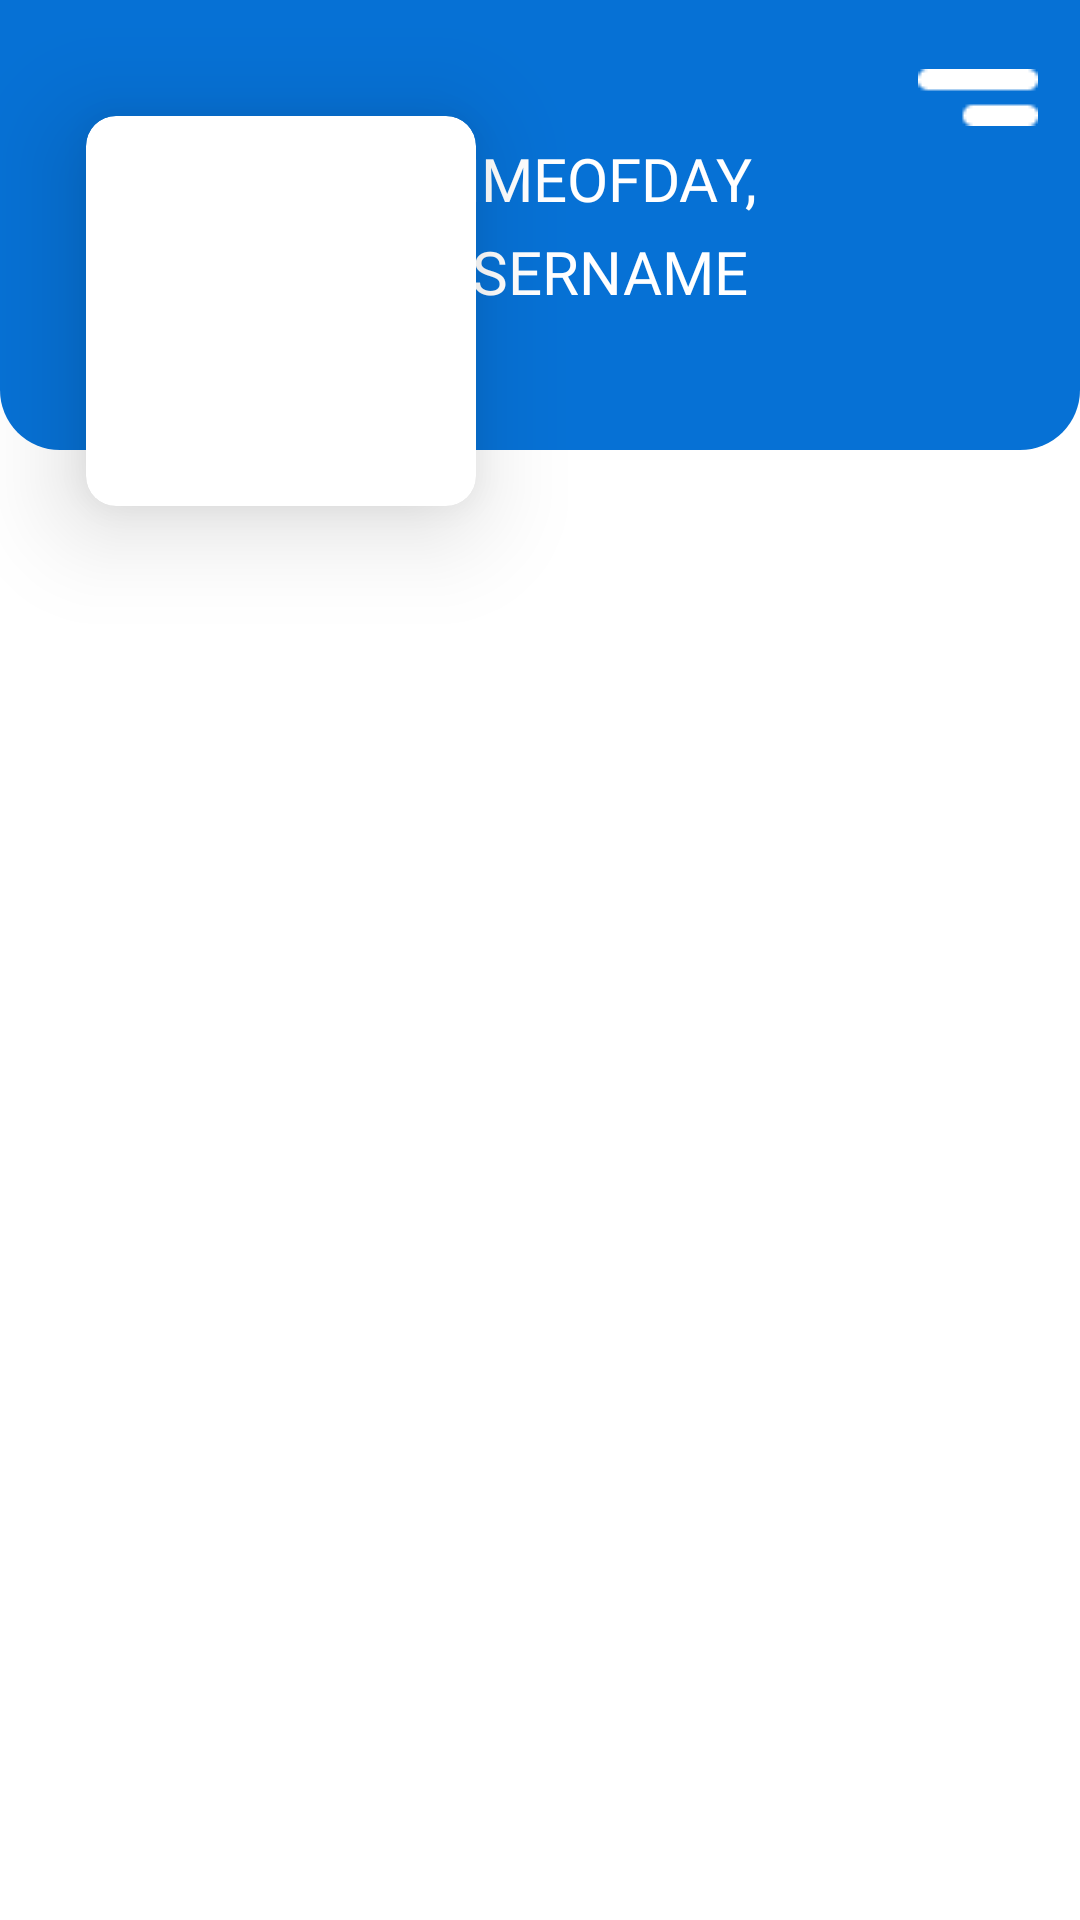

Icon bounding boxes for this 1080px×1920px phone screenshot, format (x1, y1, x2, y2):
hamburger: (918, 69, 1038, 126)
